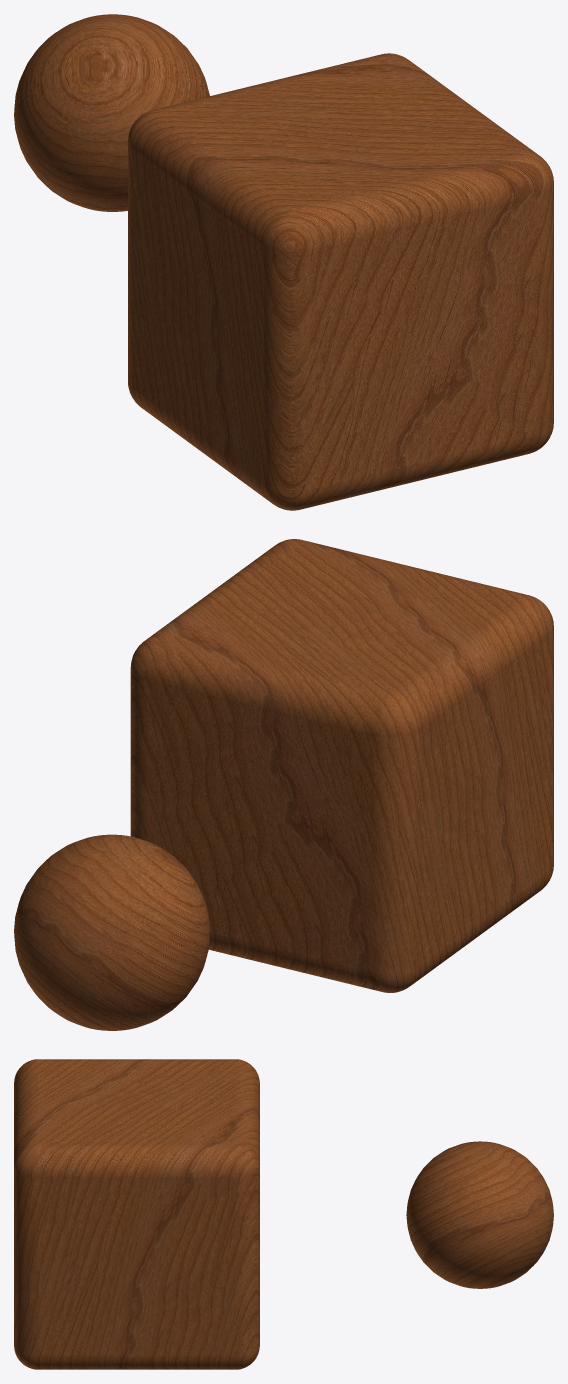
File: cube and sphere alder01.fbx
The picture shows the model from 3 angles, top to bottom: view 1: azimuth 30°, elevation 25°; view 2: azimuth 150°, elevation 25°; view 3: azimuth 270°, elevation 25°; orthographic projection. The views are drawn at different scales.
Visible parts, largest first — view 1: cube alder, sphere; view 2: cube alder, sphere; view 3: cube alder, sphere.
Part boxes in pixels (bbox=[...]): cube alder: bbox=[128, 53, 553, 510]; sphere: bbox=[14, 14, 209, 211]; cube alder: bbox=[130, 539, 553, 992]; sphere: bbox=[14, 834, 209, 1030]; cube alder: bbox=[14, 1059, 259, 1369]; sphere: bbox=[406, 1141, 553, 1288].
Size of the model in its own units: 100 by 100 by 220.
